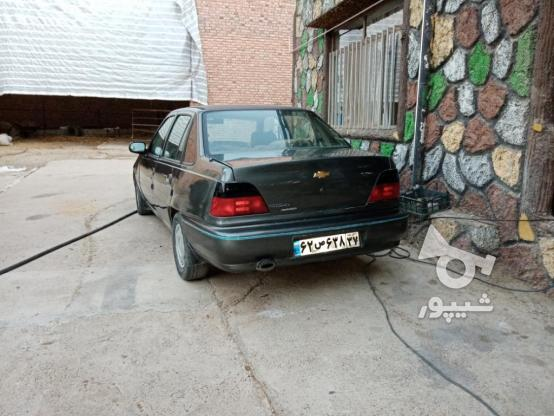car: (292, 229, 360, 258)
